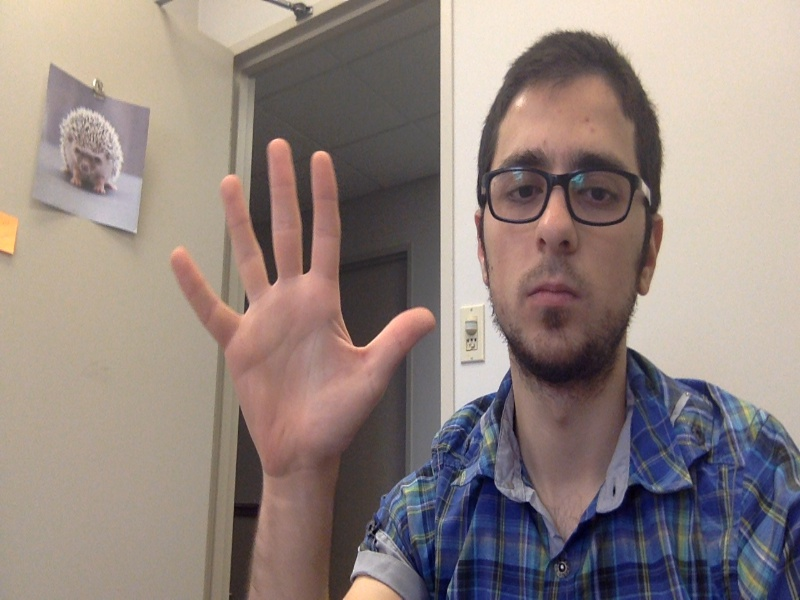5-hand: (171, 140, 436, 467)
